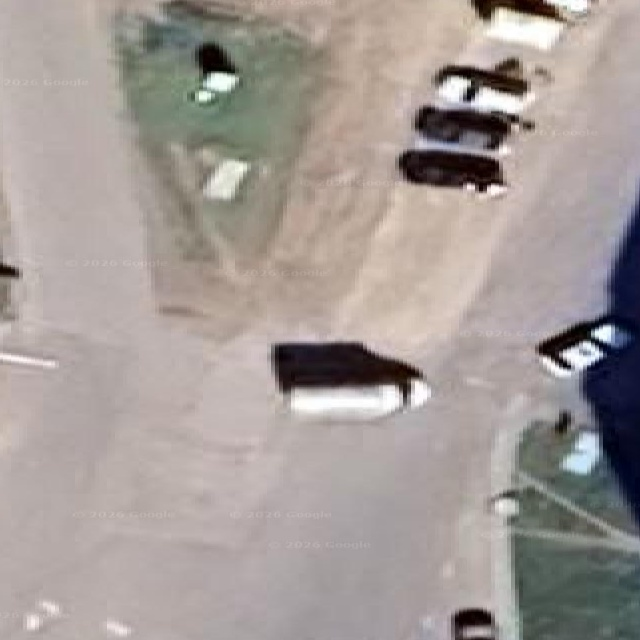car: (271, 334, 430, 419), (536, 317, 633, 377), (398, 149, 507, 196), (435, 65, 534, 114), (414, 106, 513, 154), (486, 0, 568, 50), (189, 42, 239, 104), (472, 0, 592, 19), (451, 608, 497, 639), (0, 261, 20, 278)
